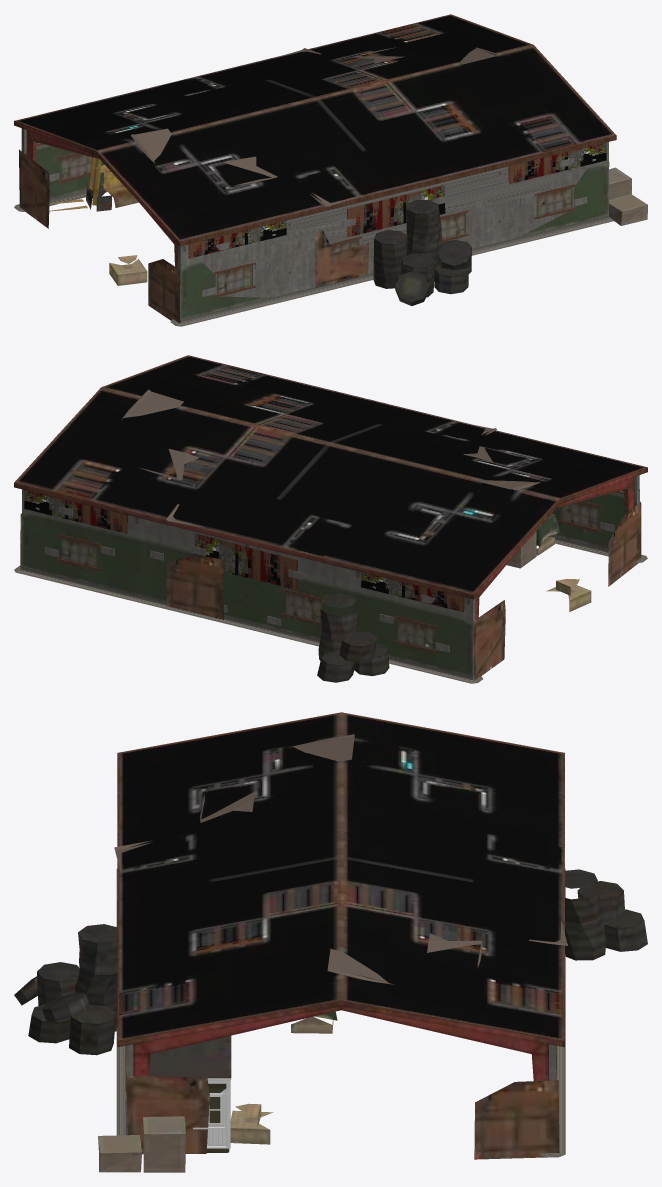
File: warehouse-close.glb
3 views of the same model, one above another, from view 1: azimuth 30°, elevation 25°; view 2: azimuth 150°, elevation 25°; view 3: azimuth 270°, elevation 25° (orthographic). The views are drawn at different scales.
Parts seen in each view (by area): view 1: warehouse_hlod, warehouse_small_shell_LOD0, warehouse_small_core_LOD0; view 2: warehouse_hlod, warehouse_small_shell_LOD0, warehouse_small_core_LOD0; view 3: warehouse_hlod, warehouse_small_core_LOD0, warehouse_small_shell_LOD0, portacabin_building_300_600_b_LOD0.
Boxes of the visible parts, left/top/right/bottom form: warehouse_hlod: left=14, top=15, right=647, bottom=323; warehouse_small_shell_LOD0: left=14, top=128, right=613, bottom=326; warehouse_small_core_LOD0: left=14, top=14, right=616, bottom=297; warehouse_hlod: left=14, top=356, right=647, bottom=682; warehouse_small_shell_LOD0: left=14, top=475, right=647, bottom=683; warehouse_small_core_LOD0: left=14, top=355, right=647, bottom=653; warehouse_hlod: left=14, top=713, right=647, bottom=1172; warehouse_small_core_LOD0: left=114, top=712, right=567, bottom=1091; warehouse_small_shell_LOD0: left=116, top=868, right=565, bottom=1156; portacabin_building_300_600_b_LOD0: left=193, top=1078, right=231, bottom=1152.
Size of the model in its own units: 26.26 by 6.63 by 22.87.
14 materials, 14 textured.
